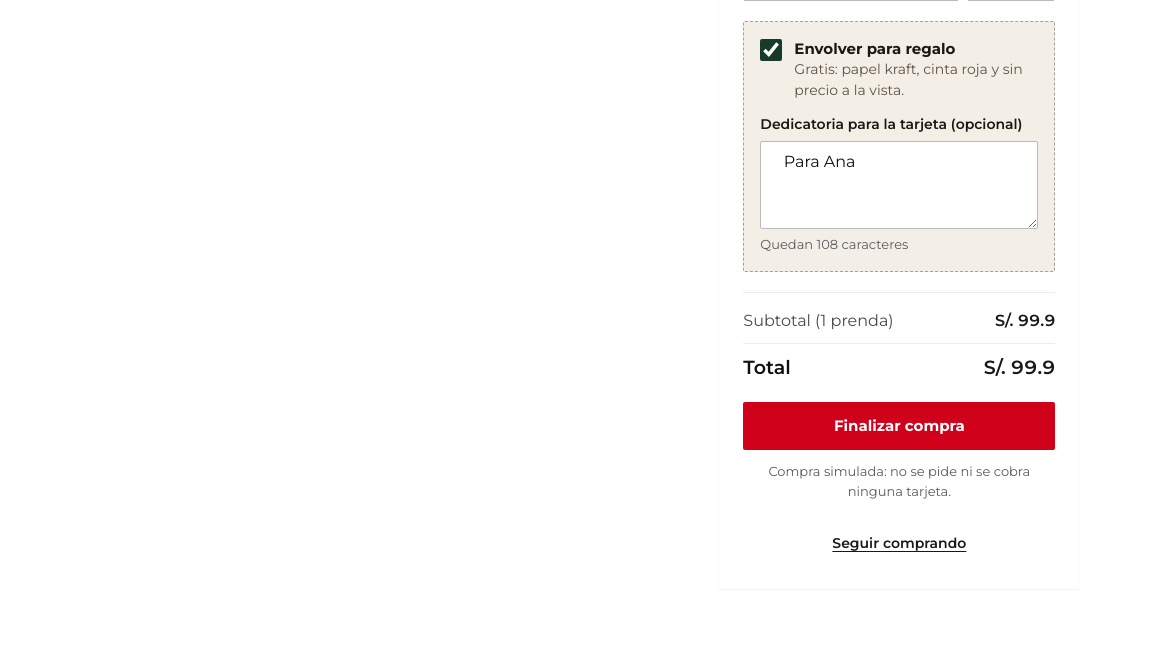
Test: CarritoPage › el pedido guarda la envoltura y la dedicatoria sin espacios sobrantes
(page scrolled)
Click the button "Finalizar compra" at (899, 426), box x1=743 y1=402 x2=1055 y2=450
(page scrolled)
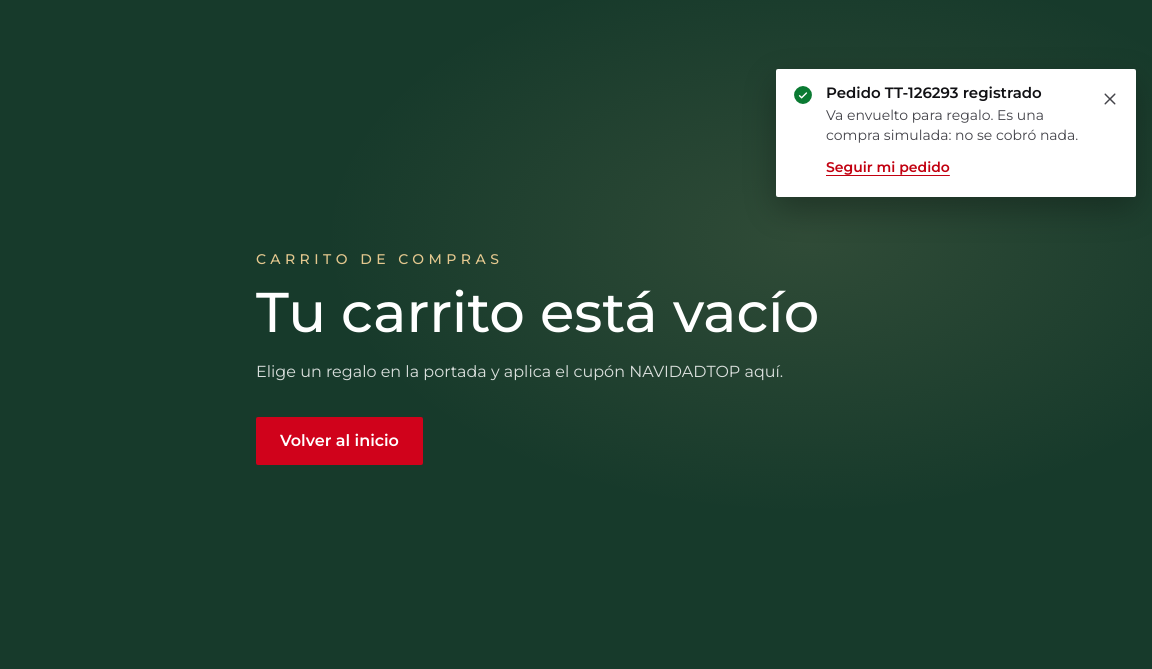
expect the text "Va envuelto para regalo. Es una compra simulada: no se cobró nada." is shown: met, box x1=826 y1=105 x2=1090 y2=146
